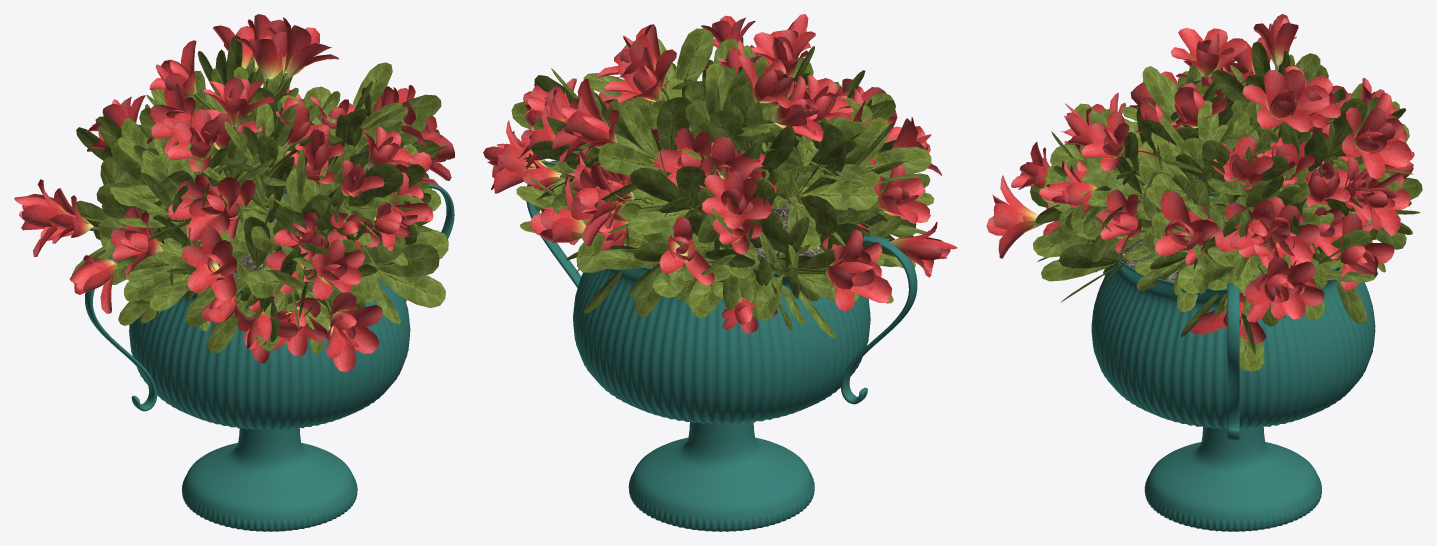
The model's file is pot_flower.fbx.
3 views of the same model, side by side, from view 1: azimuth 30°, elevation 25°; view 2: azimuth 150°, elevation 25°; view 3: azimuth 270°, elevation 25° (orthographic). The views are drawn at different scales.
Visible parts, largest first — view 1: Arch41_043_obj_1, Arch41_043_obj_2, Arch41_043_obj_4, Arch41_043_obj_3; view 2: Arch41_043_obj_1, Arch41_043_obj_2, Arch41_043_obj_4, Arch41_043_obj_3, Arch41_043_obj_5; view 3: Arch41_043_obj_2, Arch41_043_obj_1, Arch41_043_obj_4, Arch41_043_obj_3.
Part boxes in pixels (<box>): Arch41_043_obj_1: <box>72,35,448,354</box>; Arch41_043_obj_2: <box>85,183,454,531</box>; Arch41_043_obj_4: <box>40,14,454,371</box>; Arch41_043_obj_3: <box>14,25,451,363</box>; Arch41_043_obj_1: <box>511,28,934,338</box>; Arch41_043_obj_2: <box>526,160,917,531</box>; Arch41_043_obj_4: <box>487,15,941,333</box>; Arch41_043_obj_3: <box>483,14,957,311</box>; Arch41_043_obj_5: <box>647,195,820,268</box>; Arch41_043_obj_2: <box>1091,196,1375,531</box>; Arch41_043_obj_1: <box>1030,41,1422,371</box>; Arch41_043_obj_4: <box>986,27,1411,319</box>; Arch41_043_obj_3: <box>1039,14,1414,343</box>.
Bounding box in the file's own units: 0.3986 × 0.4163 × 0.3652.
4 materials, 3 textured.
